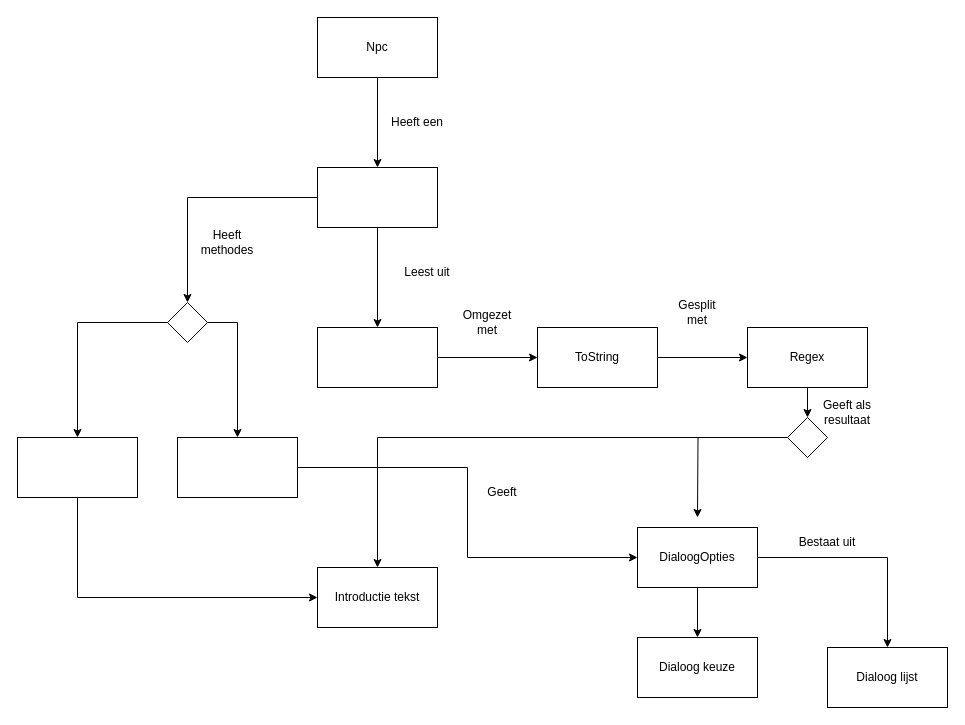
Some shapes in this 965 by 725 pixel diagram are drawn without their labels. The shapes that lost their labels are listed below. From the top down, each one's centre as x and y in pixels, then its label:
At point (377, 197): "Dialog reader script".
At point (377, 357): "Dialog text bestand".
At point (77, 467): "GetIntroText".
At point (237, 467): "GetdialogObjects".
